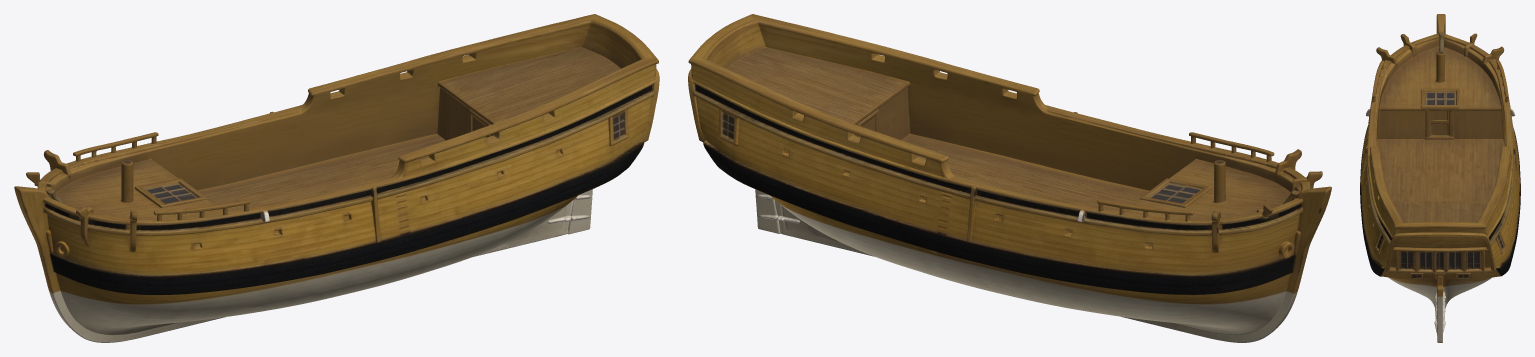
File: hull.glb
3 renders of one model, left to right at view 1: azimuth 30°, elevation 25°; view 2: azimuth 150°, elevation 25°; view 3: azimuth 270°, elevation 25°, orthographic. The views are drawn at different scales.
Bounding box in the file's own units: 1.9 × 0.5459 × 0.5985.
1 material, 1 textured.
